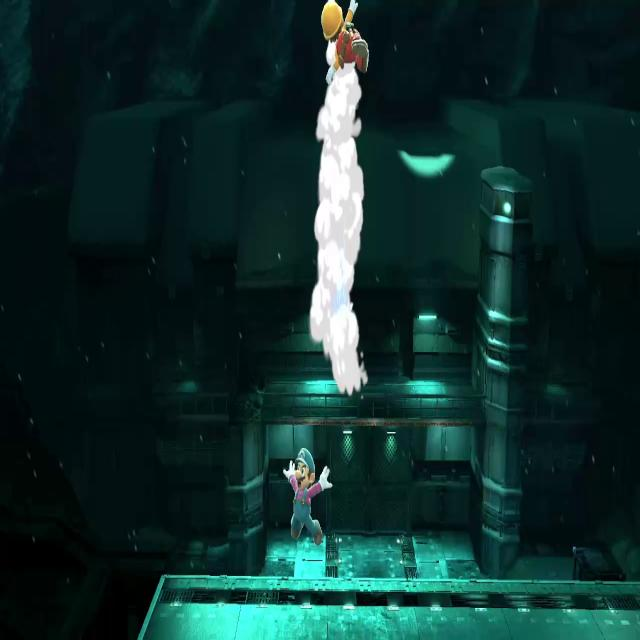Mario: (315, 0, 374, 90)
Mario-Down Air: (281, 442, 333, 545)
